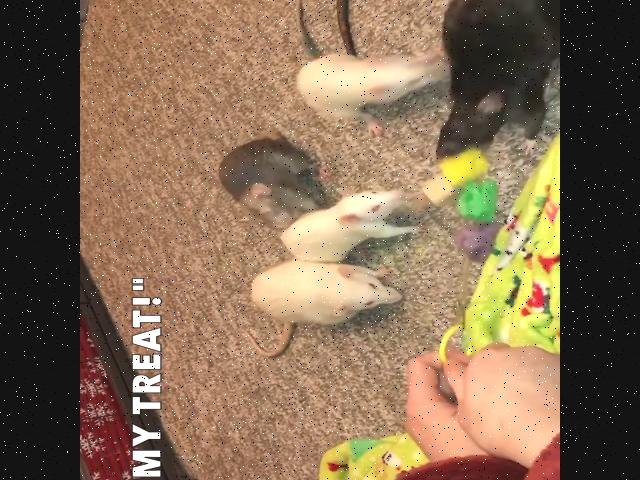Tikus: (432, 0, 560, 156), (298, 39, 452, 121), (284, 190, 426, 260), (214, 134, 320, 226), (250, 266, 398, 326)
